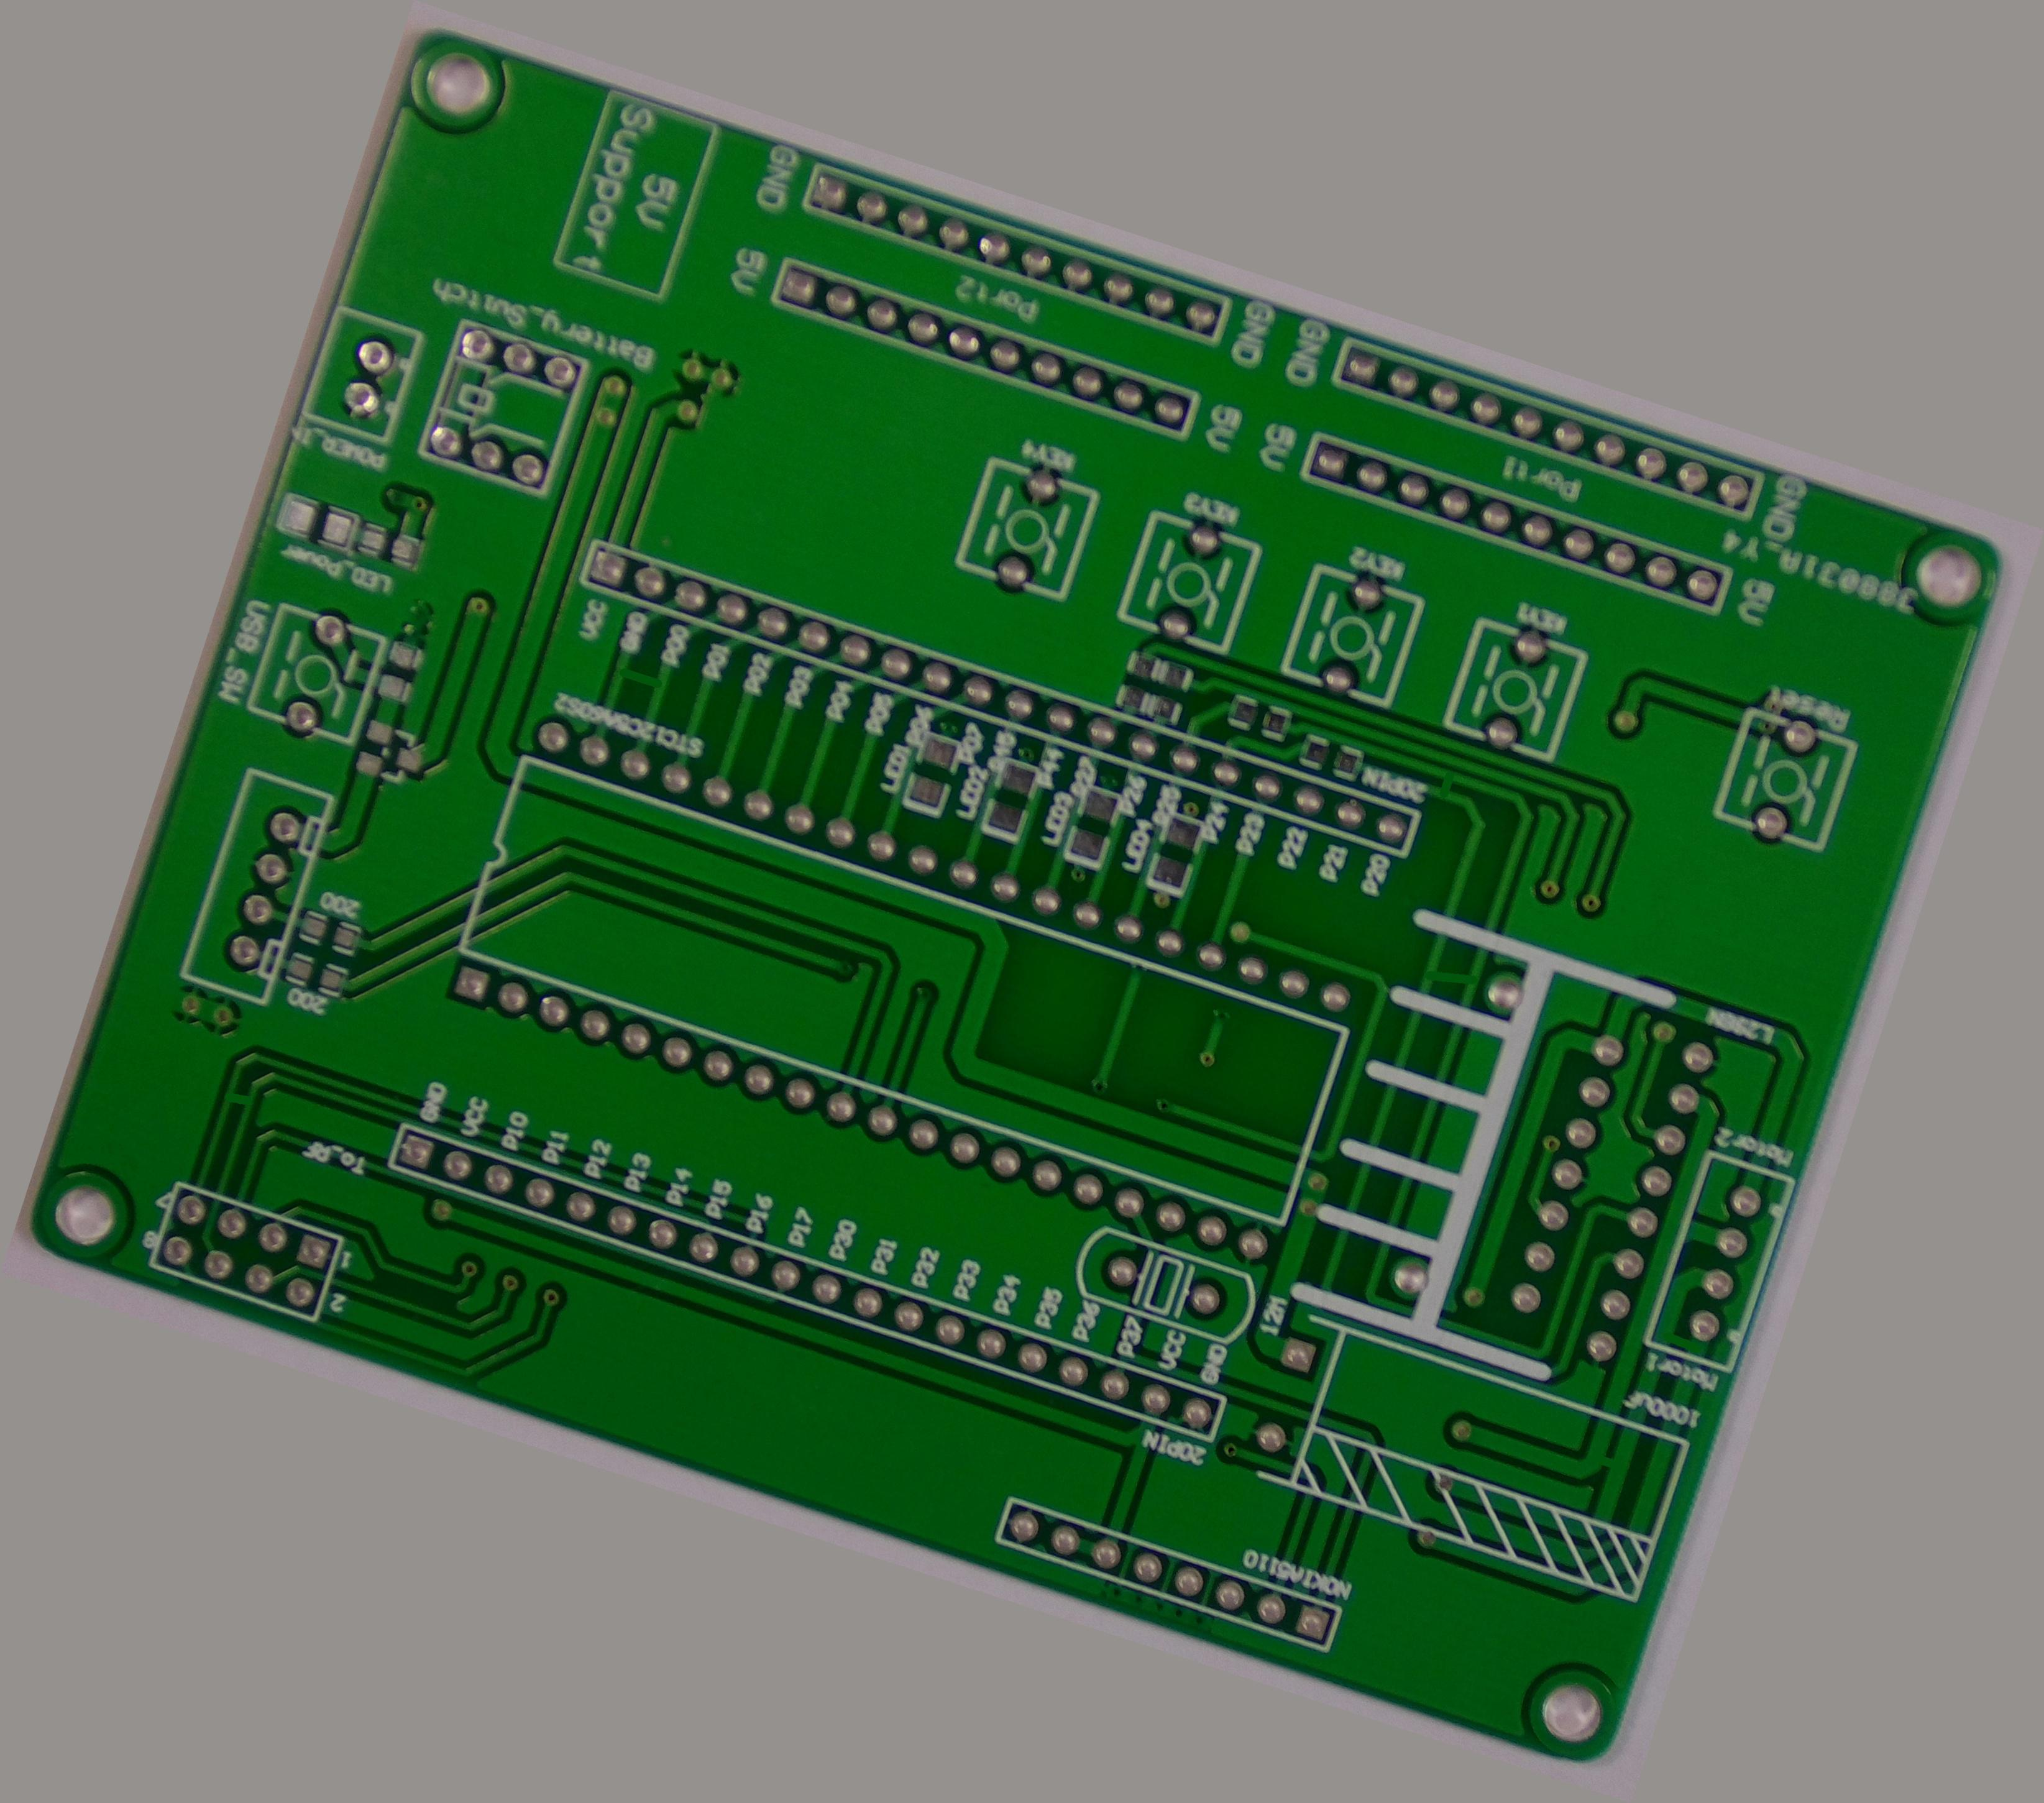short: (1404, 940, 1489, 1015), (602, 637, 684, 712), (209, 1070, 266, 1128), (1576, 1438, 1635, 1490), (1418, 759, 1472, 813)
